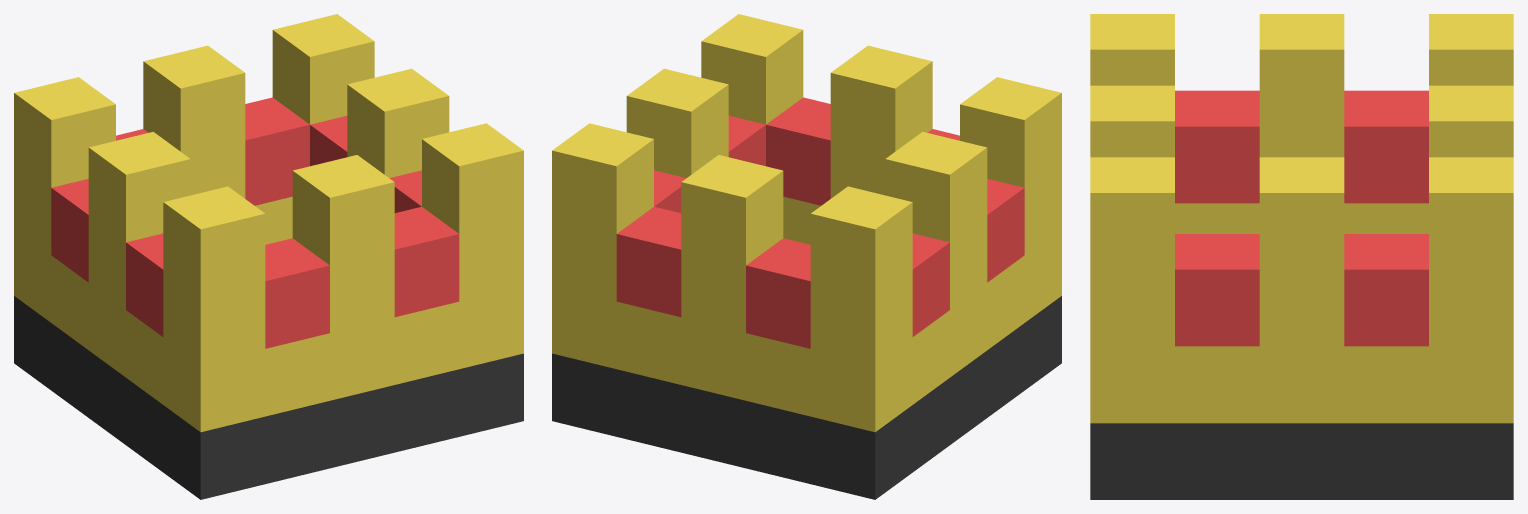
File: crown_01.gltf
3 renders of one model, left to right at view 1: azimuth 30°, elevation 25°; view 2: azimuth 150°, elevation 25°; view 3: azimuth 270°, elevation 25°, orthographic. The views are drawn at different scales.
Visible parts, largest first — view 1: Untitled; view 2: Untitled; view 3: Untitled.
Boxes of the visible parts, left/top/right/bottom form: Untitled: left=14, top=14, right=523, bottom=499; Untitled: left=552, top=14, right=1061, bottom=499; Untitled: left=1090, top=14, right=1513, bottom=499.
Bounding box in the file's own units: 0.5 × 0.4 × 0.5.
Materials: 1 (1 with a texture image).
